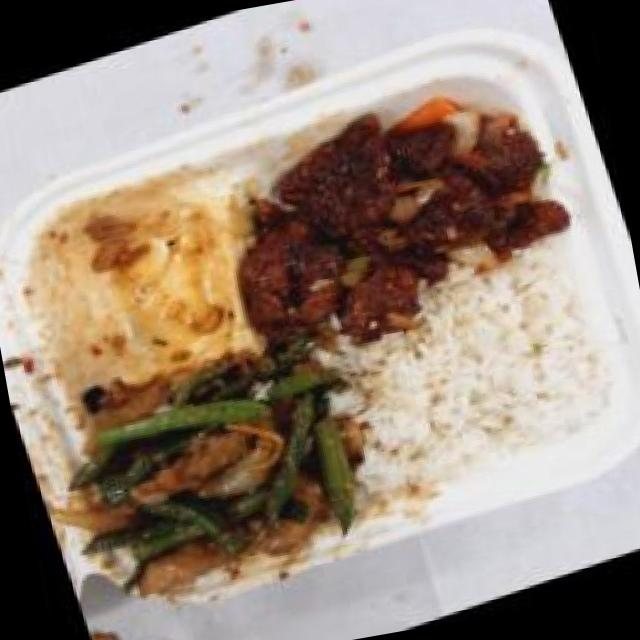Beijing Beef: (194, 48, 598, 372)
String Bean Chicken Breast: (39, 330, 392, 621)
White Steamed Rice: (318, 246, 635, 512)
